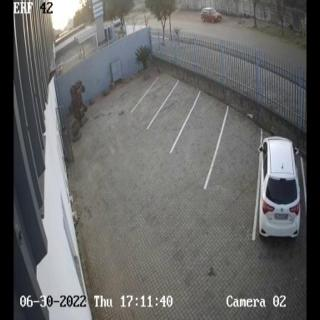car: (258, 138, 300, 242), (200, 7, 221, 22)
